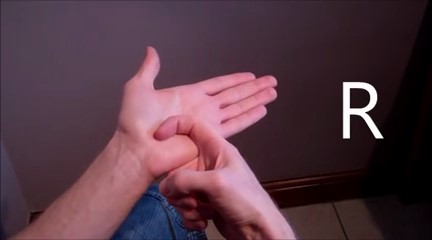R: (115, 38, 301, 236)
